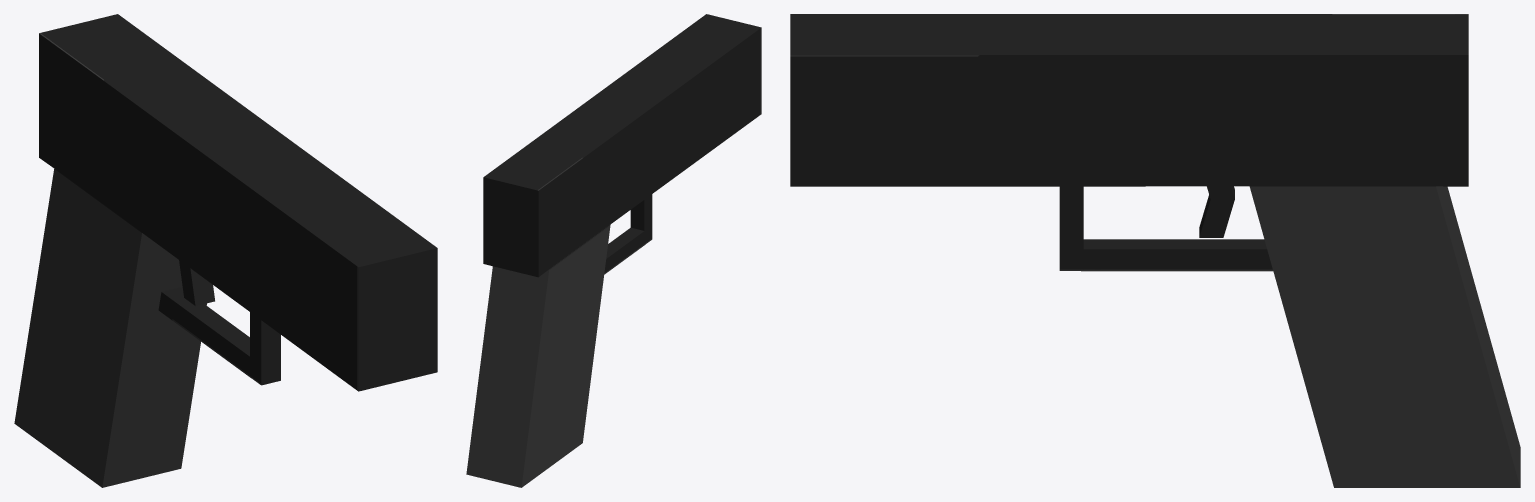
File: Glock.fbx
3 renders of one model, left to right at view 1: azimuth 30°, elevation 25°; view 2: azimuth 150°, elevation 25°; view 3: azimuth 270°, elevation 25°, orthographic. The views are drawn at different scales.
Visible parts, largest first — view 1: Glock; view 2: Glock; view 3: Glock.
Part boxes in pixels (x1,y1,x2,y2): Glock: (14, 14, 437, 487); Glock: (466, 14, 761, 487); Glock: (790, 14, 1520, 487).
Size of the model in its own units: 2 by 9.87 by 15.08.
Materials: 1 (1 with a texture image).
